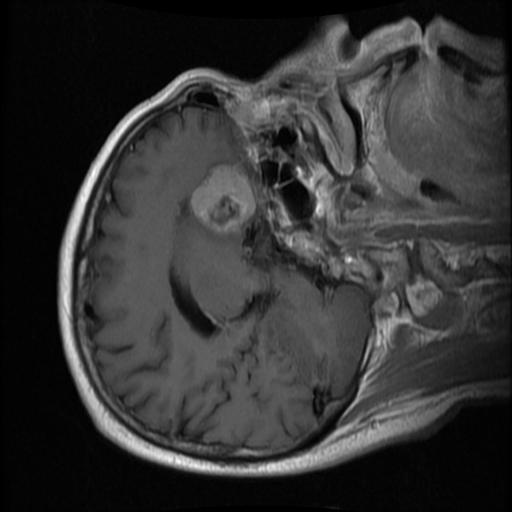meningioma: (190, 160, 255, 232)
